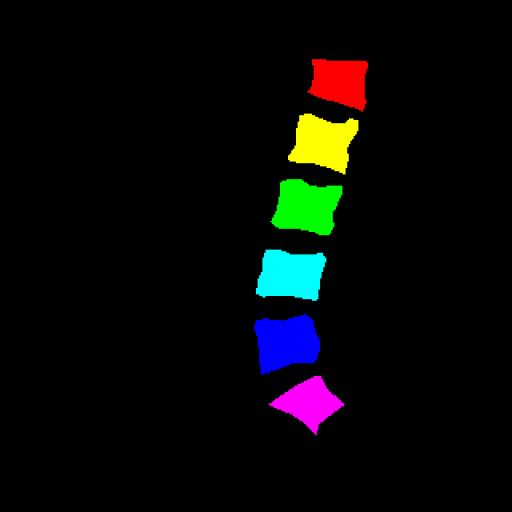L1: (308, 59, 368, 111)
L2: (288, 114, 358, 174)
L3: (271, 179, 342, 235)
L4: (256, 250, 326, 300)
L5: (255, 314, 320, 374)
S1: (269, 376, 344, 435)
